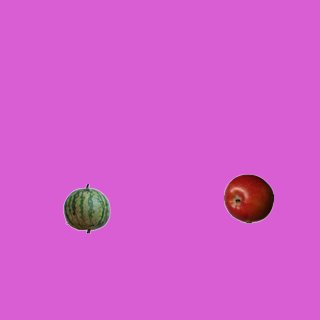Apple Braeburn: (223, 173, 273, 223)
Watermelon: (61, 183, 111, 233)
